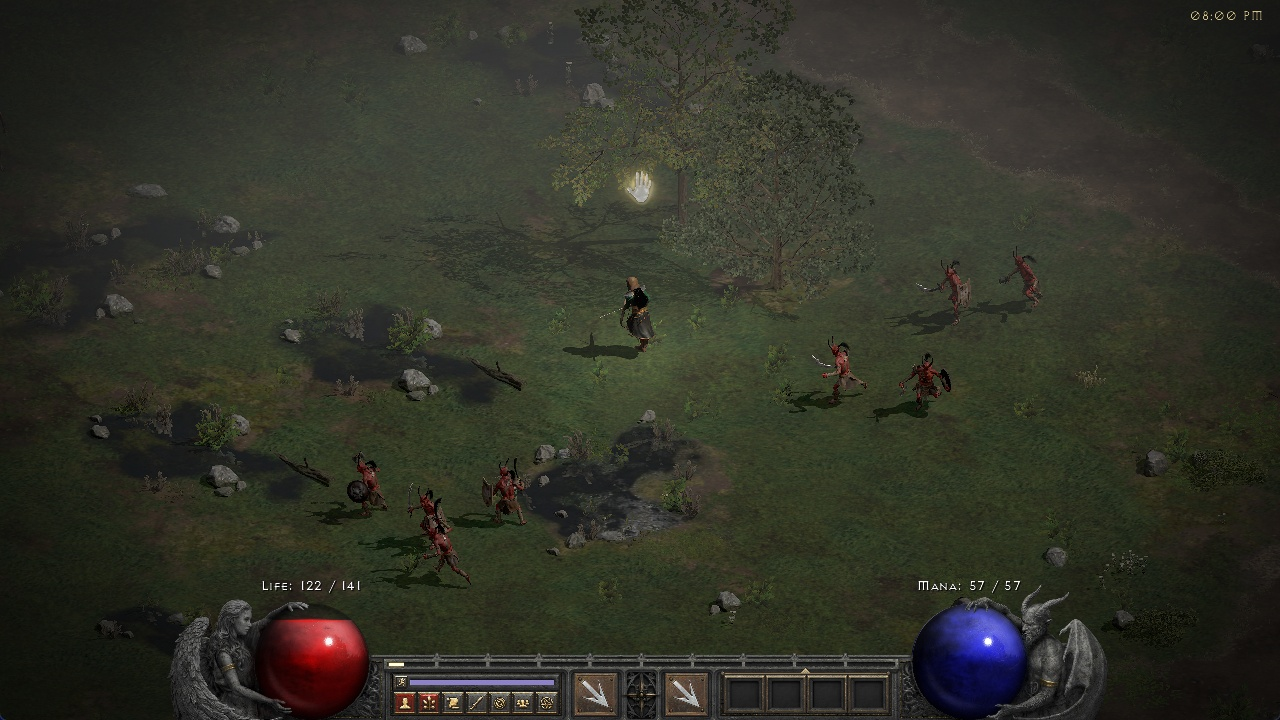fallen: (809, 338, 869, 401), (918, 258, 975, 324), (477, 456, 532, 524), (342, 451, 393, 522), (422, 524, 475, 584), (995, 248, 1048, 307), (901, 351, 951, 411), (406, 486, 444, 513)
